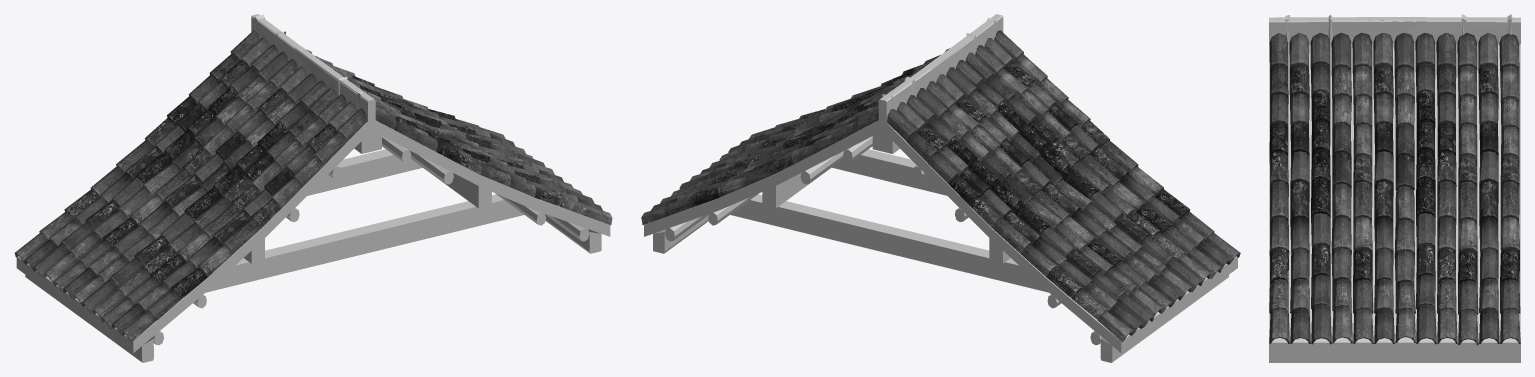
File: WaDing_1.fbx
3 renders of one model, left to right at view 1: azimuth 30°, elevation 25°; view 2: azimuth 150°, elevation 25°; view 3: azimuth 270°, elevation 25°, orthographic. The views are drawn at different scales.
Visible parts, largest first — view 1: 3D_WaDing.mo; view 2: 3D_WaDing.mo; view 3: 3D_WaDing.mo.
Boxes of the visible parts, x1=… form: 3D_WaDing.mo: x1=14, y1=14, x2=612, y2=362; 3D_WaDing.mo: x1=641, y1=14, x2=1240, y2=362; 3D_WaDing.mo: x1=1269, y1=14, x2=1520, y2=362.
Size of the model in its own units: 788 by 323 by 326.
